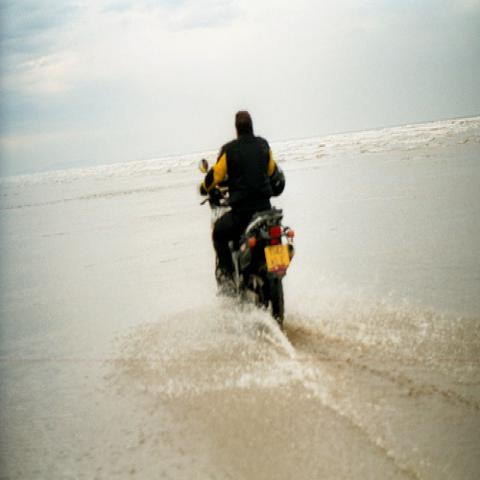motorcycle: (206, 176, 294, 328)
